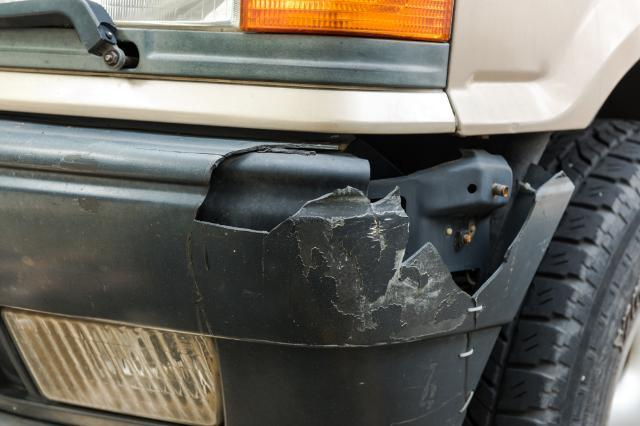crack: (191, 145, 563, 302)
